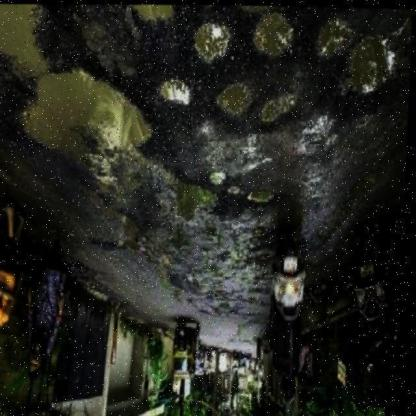pothole: (14, 59, 160, 187), (0, 3, 53, 74), (346, 31, 400, 98), (251, 6, 298, 62), (313, 11, 355, 62), (176, 176, 222, 222), (192, 17, 234, 67), (215, 78, 257, 120), (260, 89, 298, 126), (121, 3, 177, 28), (160, 74, 194, 107), (223, 4, 280, 14), (248, 187, 278, 205), (210, 165, 230, 189)
